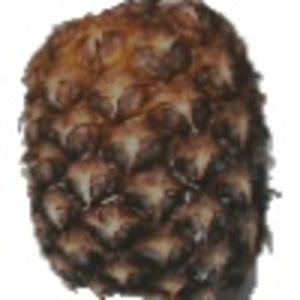abacaxi: (14, 2, 286, 298)
